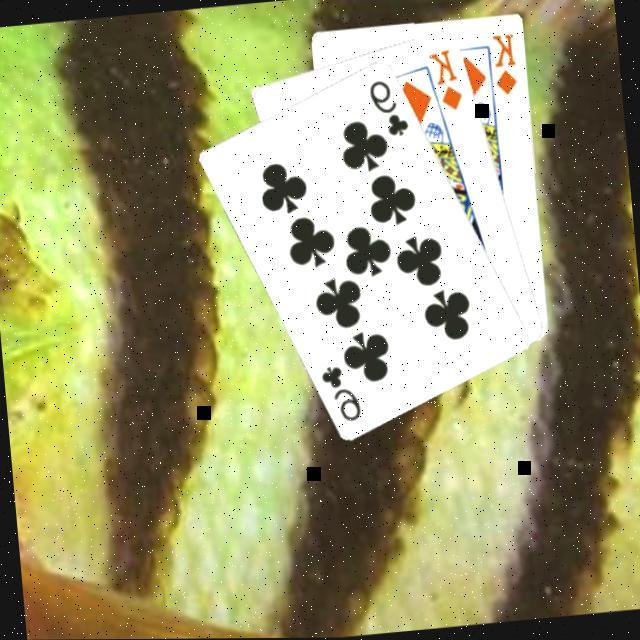9C: (366, 72, 415, 141), (319, 357, 367, 425)
KD: (427, 43, 469, 114), (490, 28, 523, 98)
